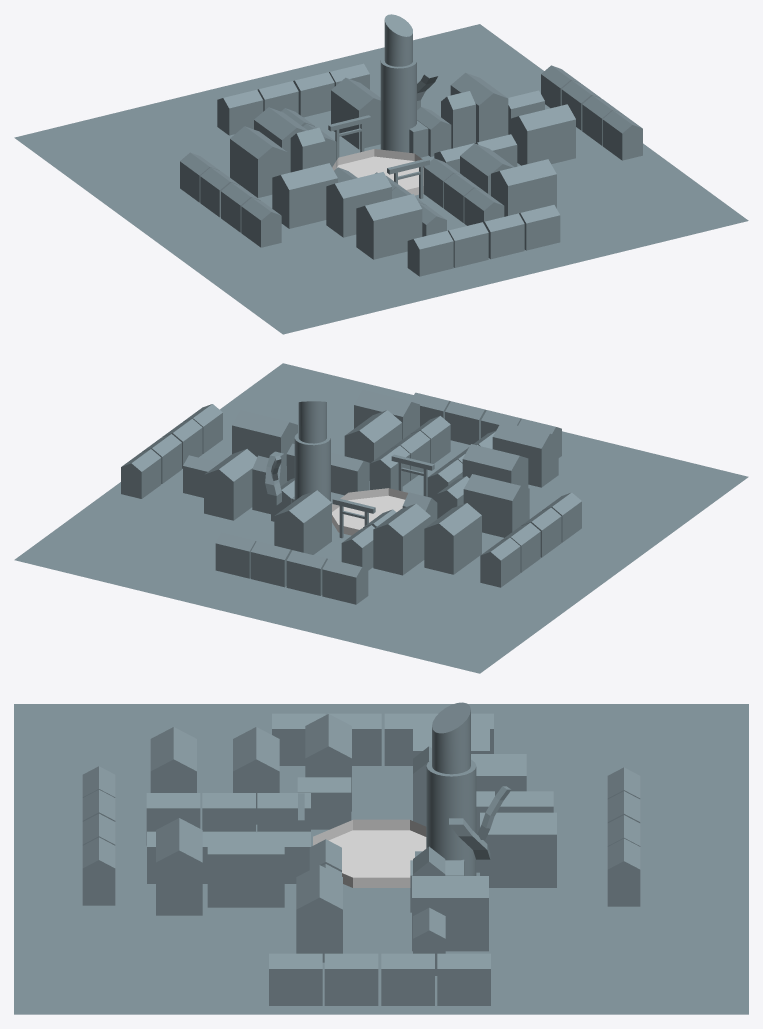
Rendered from map01kari.fbx.
3 views of the same model, one above another, from view 1: azimuth 30°, elevation 25°; view 2: azimuth 150°, elevation 25°; view 3: azimuth 270°, elevation 25° (orthographic). The views are drawn at different scales.
Visible parts, largest first — view 1: Chikei, BattleField; view 2: Chikei, BattleField; view 3: Chikei, BattleField.
Part boxes in pixels (x1,y1,x2,y2): Chikei: (14,14,748,334); BattleField: (332,149,424,195); Chikei: (14,363,748,673); BattleField: (332,488,407,535); Chikei: (14,702,748,1014); BattleField: (313,819,426,887).
Bounding box in the file's own units: 23424 × 6311 × 23424.
